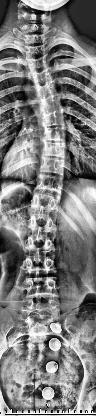Vertebrae: (24, 297, 56, 316), (26, 212, 56, 232), (23, 275, 55, 293), (25, 235, 55, 254), (30, 193, 58, 211), (36, 174, 62, 193), (23, 256, 53, 272), (38, 158, 66, 174), (41, 142, 67, 158), (40, 113, 66, 127), (38, 98, 63, 112), (30, 70, 54, 84), (26, 58, 50, 70), (34, 84, 58, 96), (42, 128, 66, 140), (24, 34, 48, 44), (23, 46, 46, 56)
